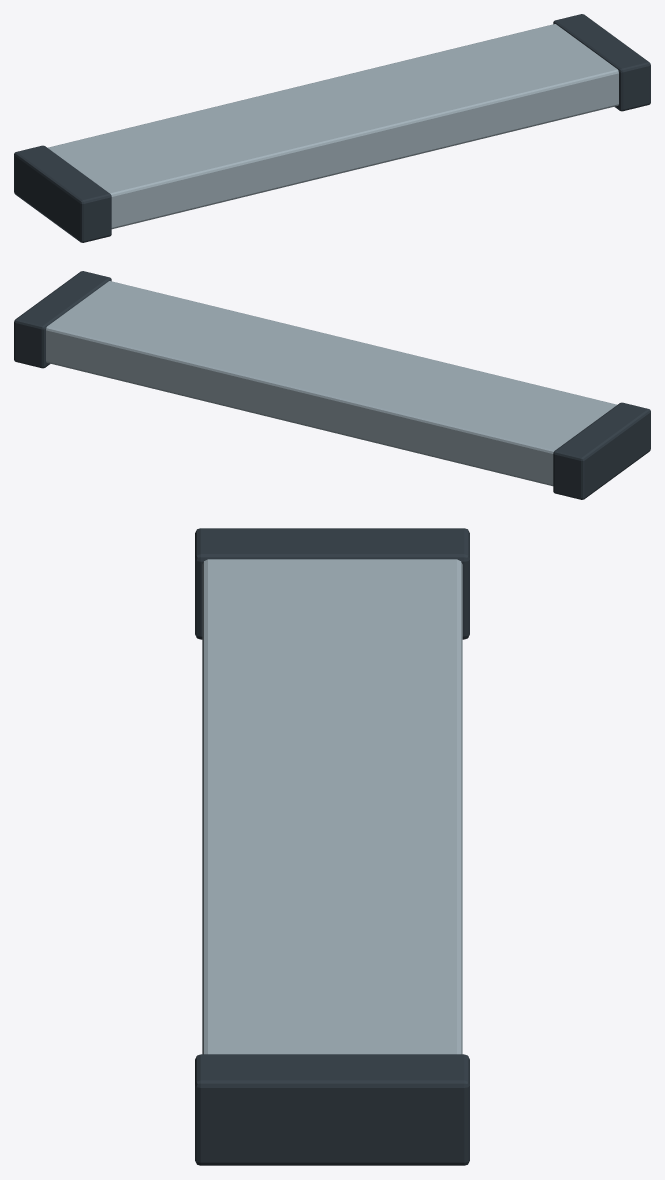
The model's file is ceiling-light.glb.
3 views of the same model, one above another, from view 1: azimuth 30°, elevation 25°; view 2: azimuth 150°, elevation 25°; view 3: azimuth 270°, elevation 25° (orthographic). The views are drawn at different scales.
Visible parts, largest first — view 1: Casing, End cap, End cap.001; view 2: Casing, End cap, End cap.001; view 3: Casing, End cap.001, End cap.
Part boxes in pixels (<box>): Casing: <box>47,24,618,229</box>; End cap: <box>14,145,111,242</box>; End cap.001: <box>553,14,650,111</box>; Casing: <box>46,281,617,486</box>; End cap: <box>553,402,650,499</box>; End cap.001: <box>14,271,111,368</box>; Casing: <box>202,559,462,1054</box>; End cap.001: <box>195,1054,469,1165</box>; End cap: <box>195,528,469,639</box>.
Size of the model in its own units: 1.82 by 0.13 by 0.38.
